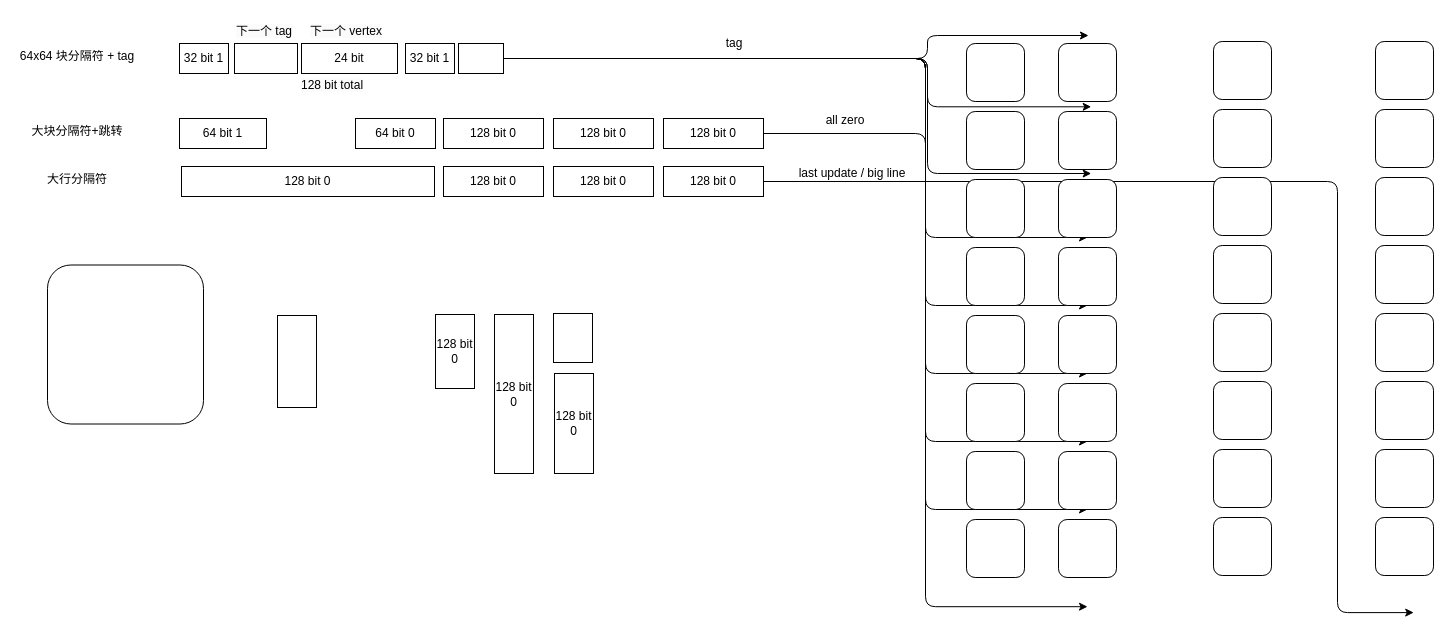
Some shapes in this 1451 by 638 pixel diagram are drawn without their labels. Here are the shapes that lost their labels. From the top down, the centre of each, then its label:
[266,58]: 8 bit
[481,58]: 32 bit 0
[572,337]: head
